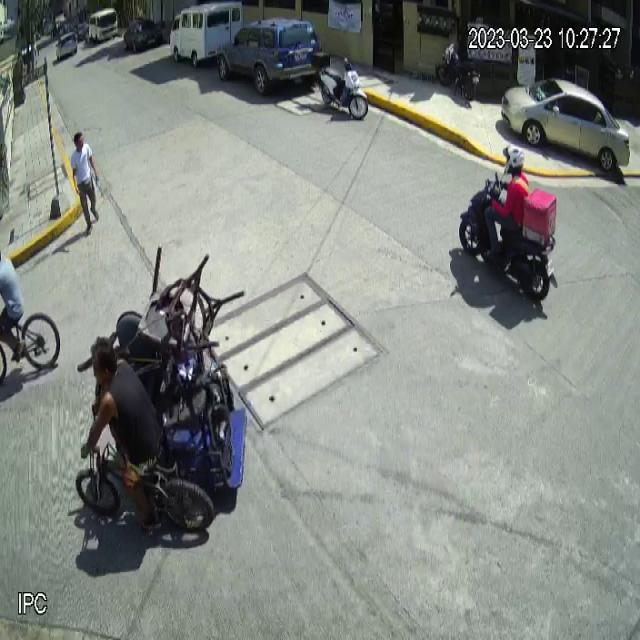Car: (501, 76, 630, 173), (216, 16, 321, 98)
Motorcycle: (458, 178, 557, 311), (316, 56, 368, 121)
Van: (169, 0, 243, 67)
